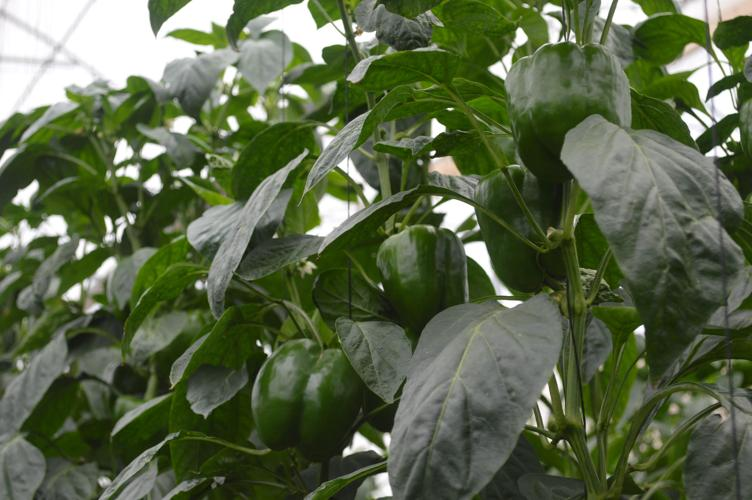BellPepper: (499, 36, 655, 178), (250, 335, 368, 467), (461, 163, 564, 291), (368, 228, 465, 326)
